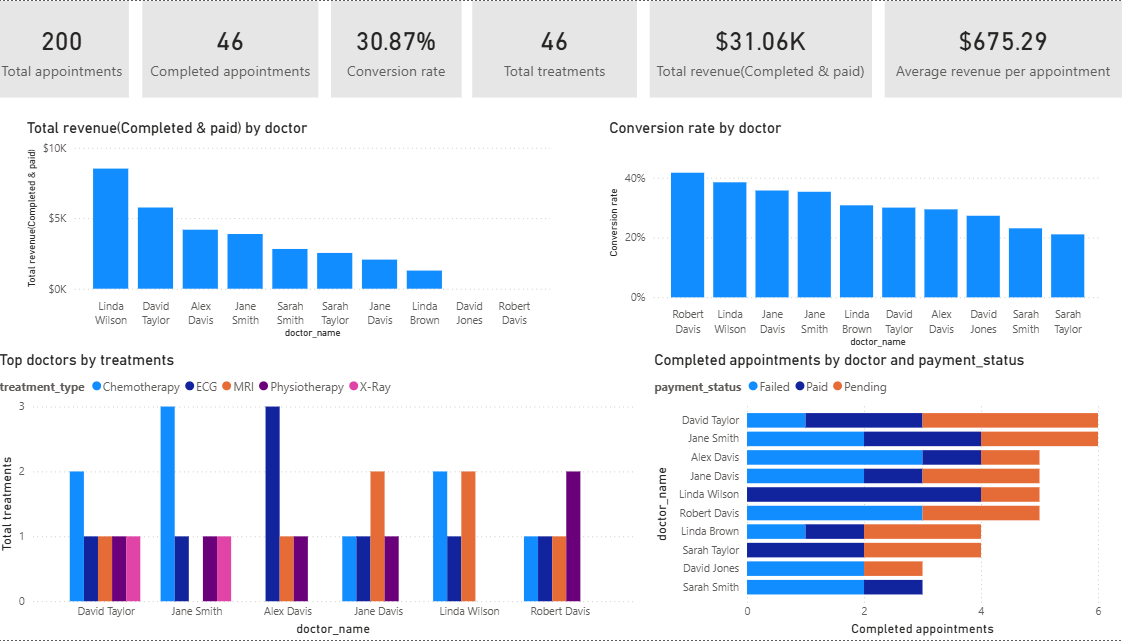

This screenshot's page, from the dashboard's own definition file:
{"tool":"powerbi","page":{"name":"Doctors performance","canvas":[1280,720],"ordinal":1},"visuals":[{"type":"card","fields":{"Values":["Table.Total appointments"]},"box":[10,0,151.4,108.6],"z":0},{"type":"card","fields":{"Values":["Table.Completed appointments"]},"box":[175.7,0,198.6,108.6],"z":1000},{"type":"card","fields":{"Values":["Table.Conversion rate"]},"box":[388.6,0,147.1,108.6],"z":2000},{"type":"card","fields":{"Values":["Table.Total treatments"]},"box":[548.6,0,185.7,108.6],"z":3000},{"type":"card","fields":{"Values":["Table.Total revenue(Completed & paid)"]},"box":[748.6,0,250,108.6],"z":4000},{"type":"card","fields":{"Values":["Table.Average revenue per appointment"]},"box":[1012.9,0,267.1,108.6],"z":5000},{"type":"columnChart","title":"Total revenue(Completed & paid) by doctor","fields":{"Category":["gold dim_doctors.doctor_name"],"Y":["Table.Total revenue(Completed & paid)"]},"box":[40.3,131.9,600,252.8],"z":6000},{"type":"columnChart","title":"Conversion rate by doctor","fields":{"Category":["gold dim_doctors.doctor_name"],"Y":["Table.Conversion rate"]},"box":[697.2,131.9,565.3,262.5],"z":7000},{"type":"barChart","title":"Completed appointments by doctor and payment_status","fields":{"Category":["gold dim_doctors.doctor_name"],"Series":["gold fact_hospital_events.payment_status"],"Y":["Table.Completed appointments"]},"box":[748.6,394.3,514.3,325.7],"z":8000},{"type":"clusteredColumnChart","title":"Top doctors by treatments","fields":{"Category":["gold dim_doctors.doctor_name"],"Series":["gold dim_treatment_type.treatment_type"],"Y":["Table.Total treatments"]},"box":[10,394.3,724.3,325.7],"z":9000}]}

Visuals, with their boxes in screenshot pixels (x1, y1, x2, y2), scaled from the page's 1280x720 canvas onto the 1122x641 screenshot:
card - Table.Total appointments: bbox=[9, 0, 141, 97]
card - Table.Completed appointments: bbox=[154, 0, 328, 97]
card - Table.Conversion rate: bbox=[341, 0, 470, 97]
card - Table.Total treatments: bbox=[481, 0, 644, 97]
card - Table.Total revenue(Completed & paid): bbox=[656, 0, 875, 97]
card - Table.Average revenue per appointment: bbox=[888, 0, 1121, 97]
"Total revenue(Completed & paid) by doctor" columnChart: bbox=[35, 117, 561, 342]
"Conversion rate by doctor" columnChart: bbox=[611, 117, 1107, 351]
"Completed appointments by doctor and payment_status" barChart: bbox=[656, 351, 1107, 640]
"Top doctors by treatments" clusteredColumnChart: bbox=[9, 351, 644, 640]
